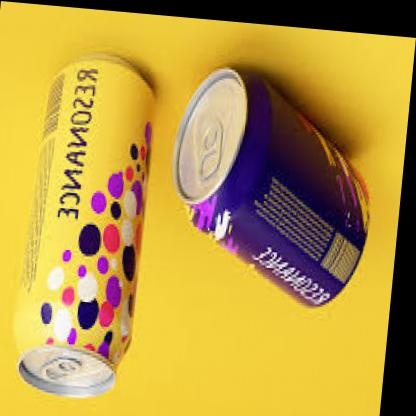trash: (16, 55, 152, 396), (174, 68, 366, 305)
